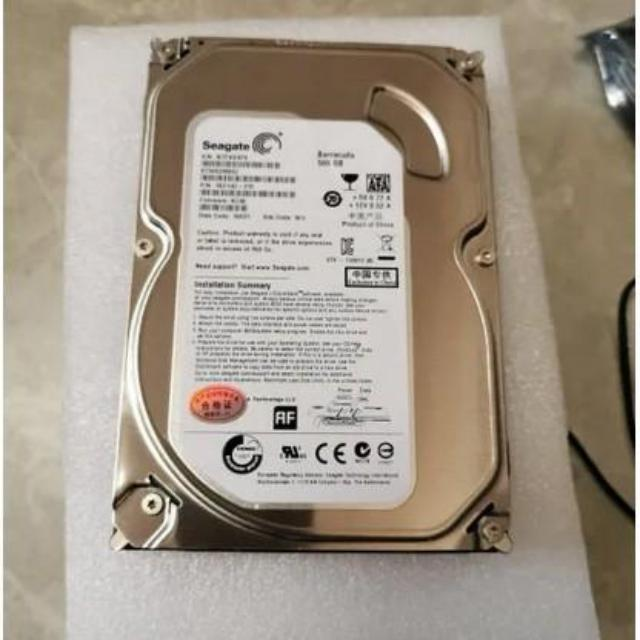DISK: (106, 25, 511, 553)
